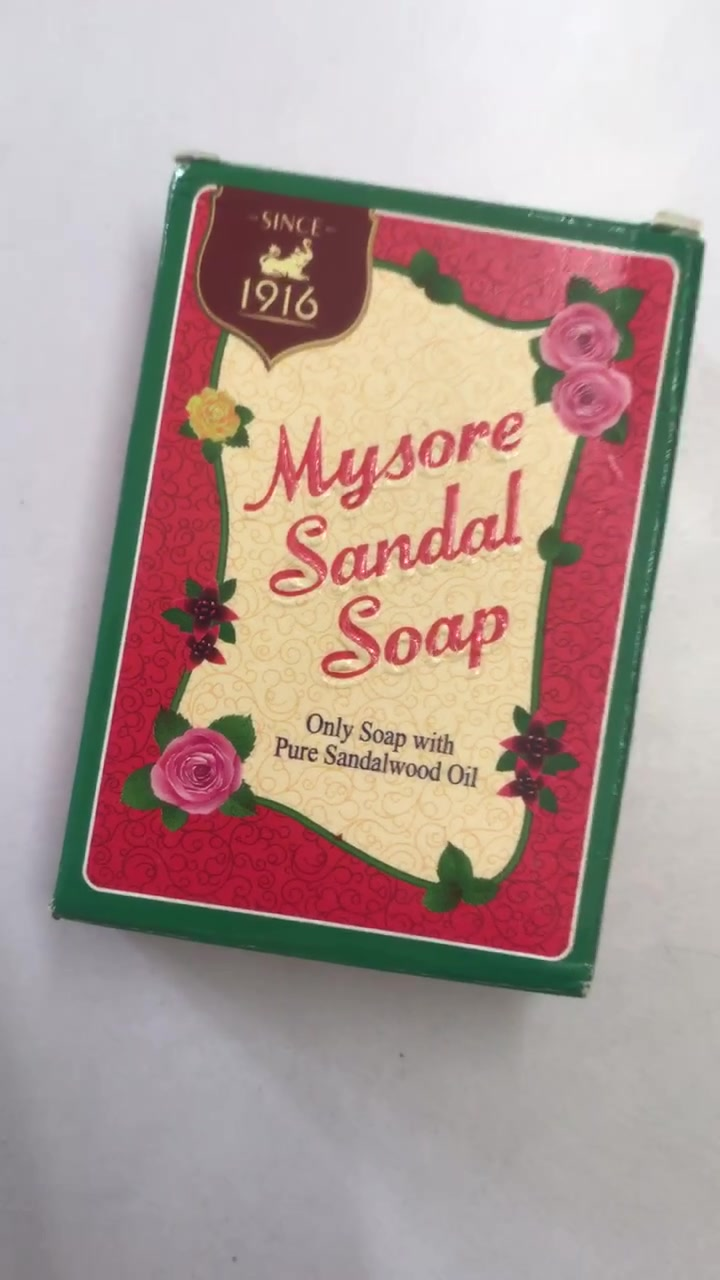mysore sandal soap: (53, 162, 710, 999)
